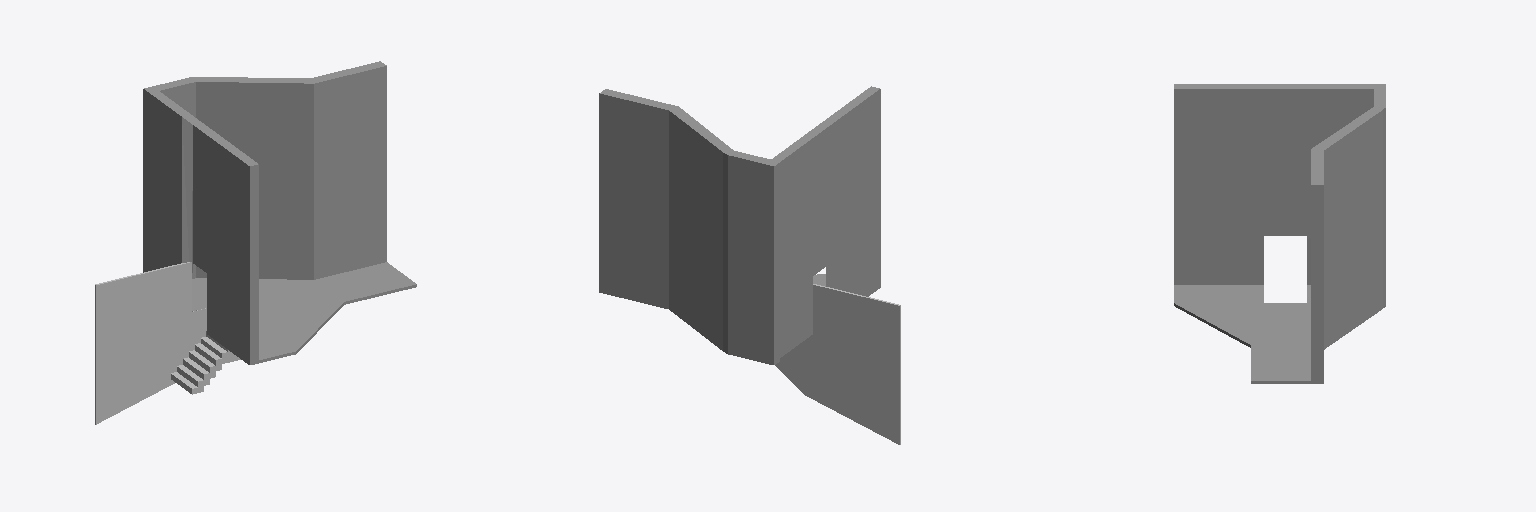
File: Level0.obj
The picture shows the model from 3 angles: view 1: azimuth 30°, elevation 25°; view 2: azimuth 150°, elevation 25°; view 3: azimuth 270°, elevation 25°; orthographic projection.
Parts seen in each view (by area): view 1: Cube, Cube.001_Cube.002, Stairs.001_Cube.003; view 2: Cube, Cube.001_Cube.002; view 3: Cube.
Part boxes in pixels (left/top/right/bottom): Cube: left=143, top=61, right=416, bottom=364; Cube.001_Cube.002: left=95, top=262, right=206, bottom=424; Stairs.001_Cube.003: left=171, top=337, right=240, bottom=394; Cube: left=599, top=86, right=880, bottom=364; Cube.001_Cube.002: left=775, top=284, right=900, bottom=444; Cube: left=1174, top=84, right=1385, bottom=383.
Bounding box in the file's own units: 15.63 × 14.57 × 9.82.